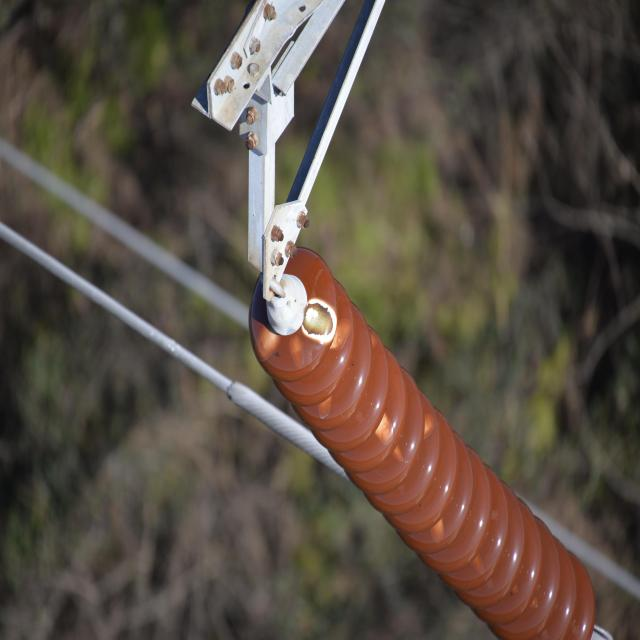insulator: (248, 245, 596, 640)
